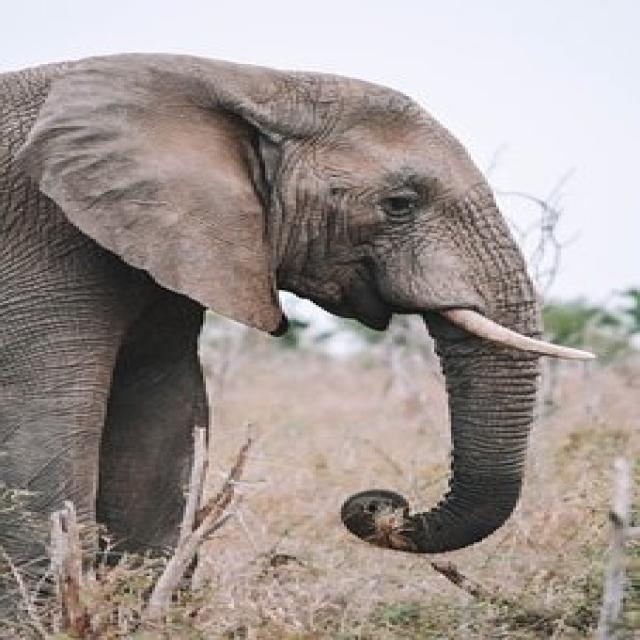Elephant: (0, 41, 565, 594)
